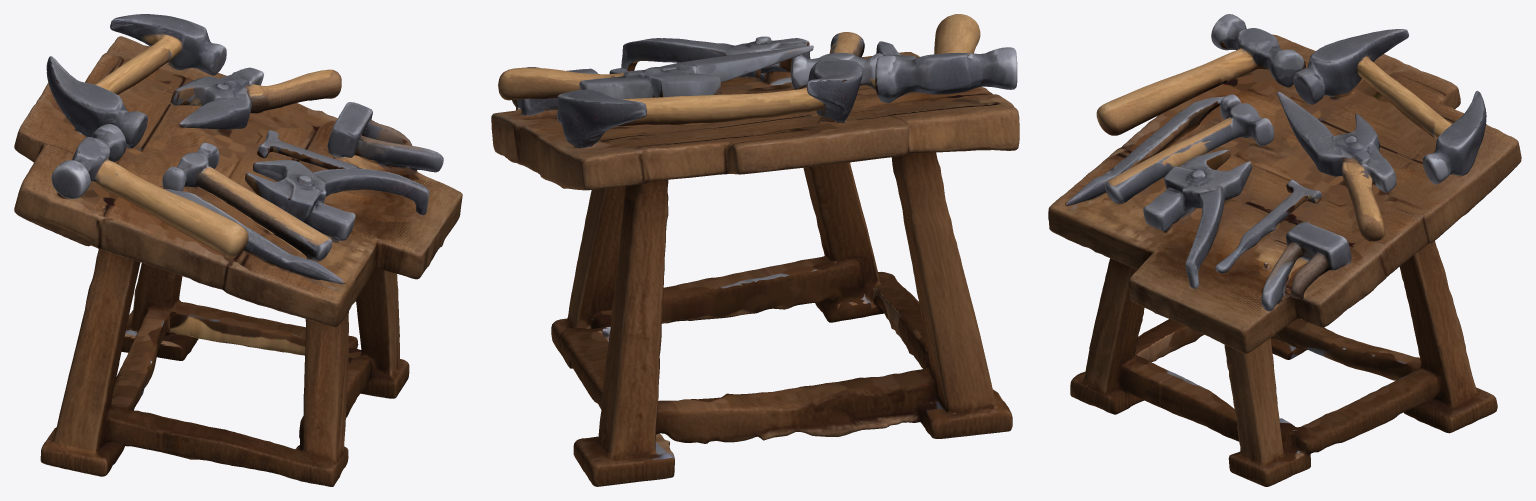
File: verstak.glb
3 views of the same model, side by side, from view 1: azimuth 30°, elevation 25°; view 2: azimuth 150°, elevation 25°; view 3: azimuth 270°, elevation 25° (orthographic). The views are drawn at different scales.
Visible parts, largest first — view 1: world; view 2: world; view 3: world.
Part boxes in pixels (bbox=[...]): world: bbox=[14, 14, 462, 486]; world: bbox=[491, 14, 1019, 486]; world: bbox=[1048, 14, 1521, 486].
Size of the model in its own units: 1.94 by 1.45 by 1.91.
1 material, 1 textured.
